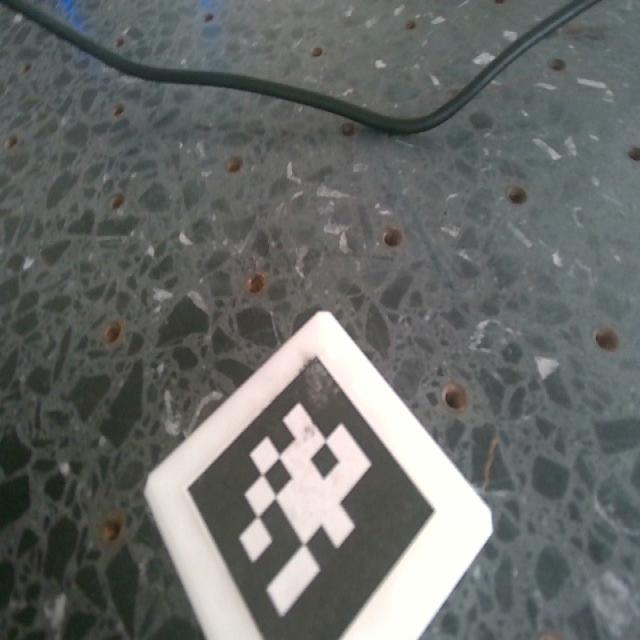Cube: (143, 312, 495, 639)
